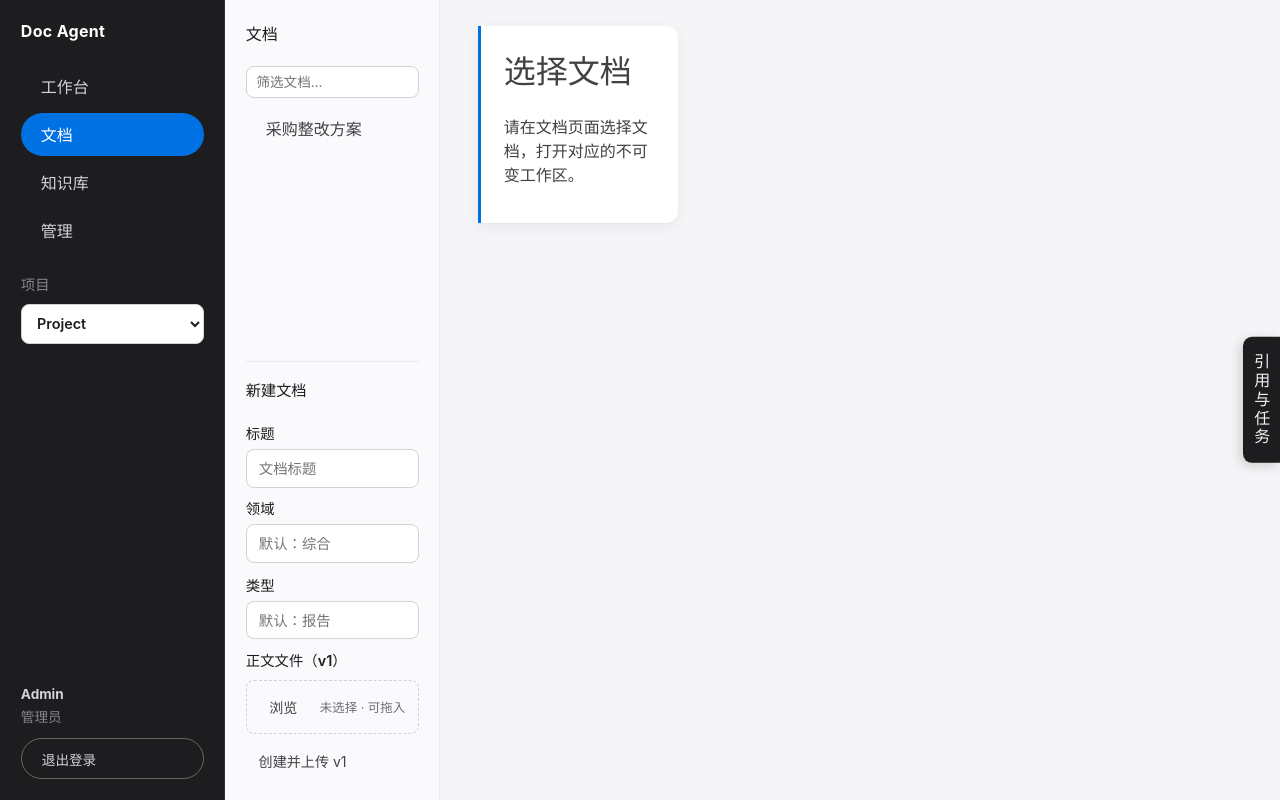
document and review workspace boundaries › does not grant a global administrator project review permissions
This screenshot has width=1280, height=800.
Click the button "采购整改方案" at (332,128), box [246,106,419,150]
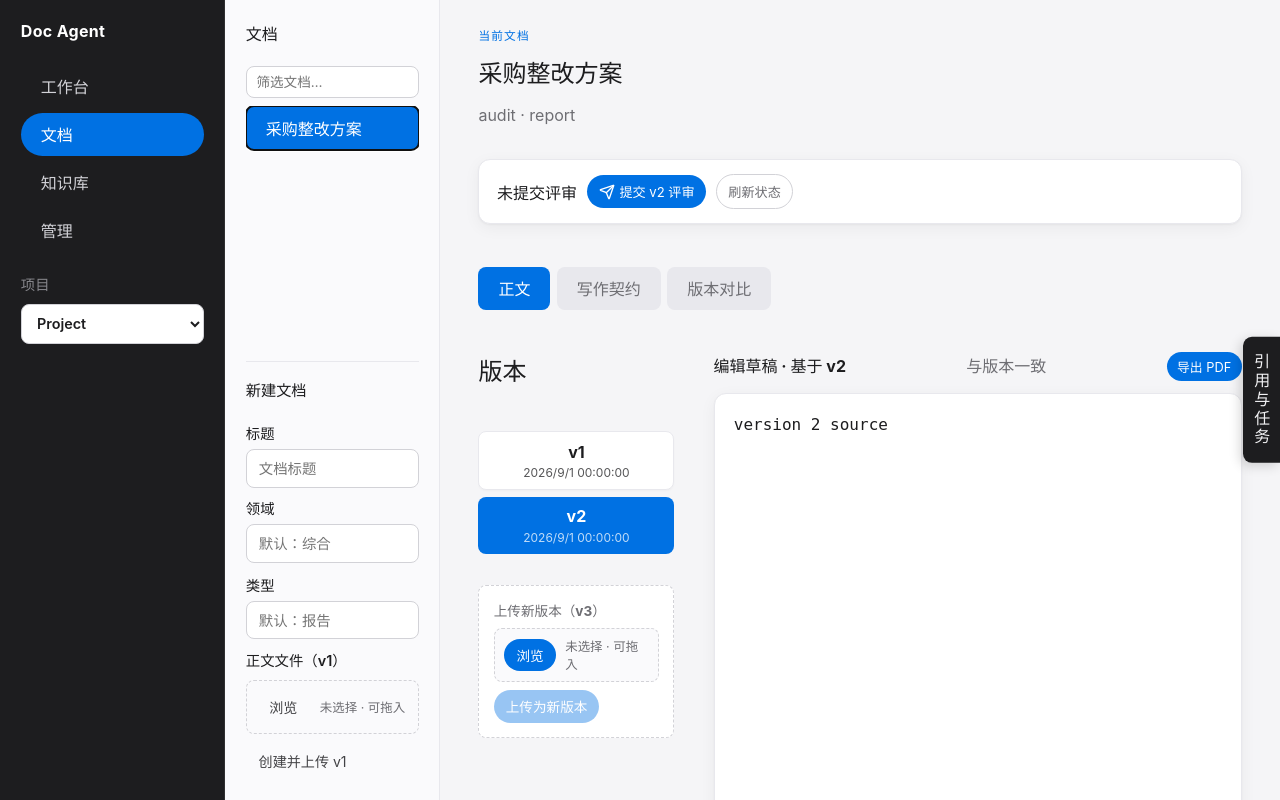
Click the button "管理" at (112,230), box [21,209,204,252]
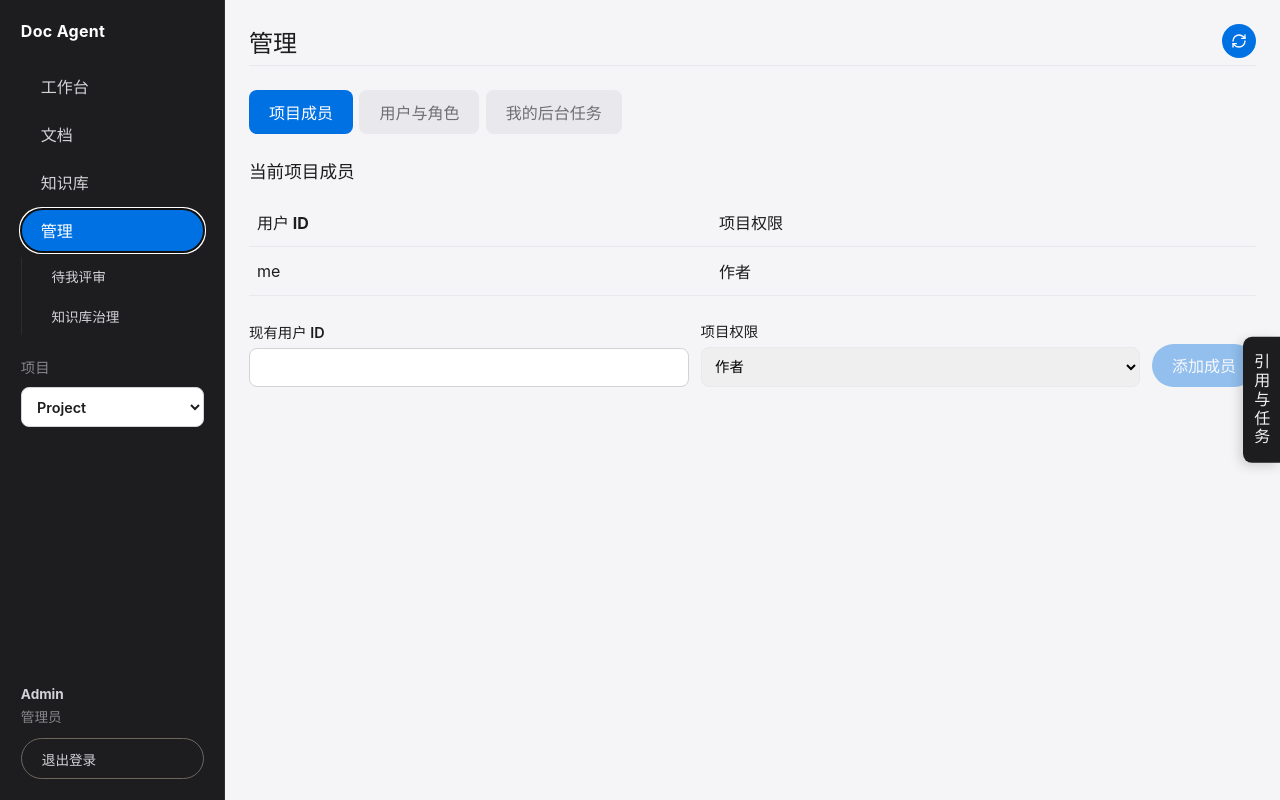
Click the button "待我评审" at (118,276), box [31,257,204,296]
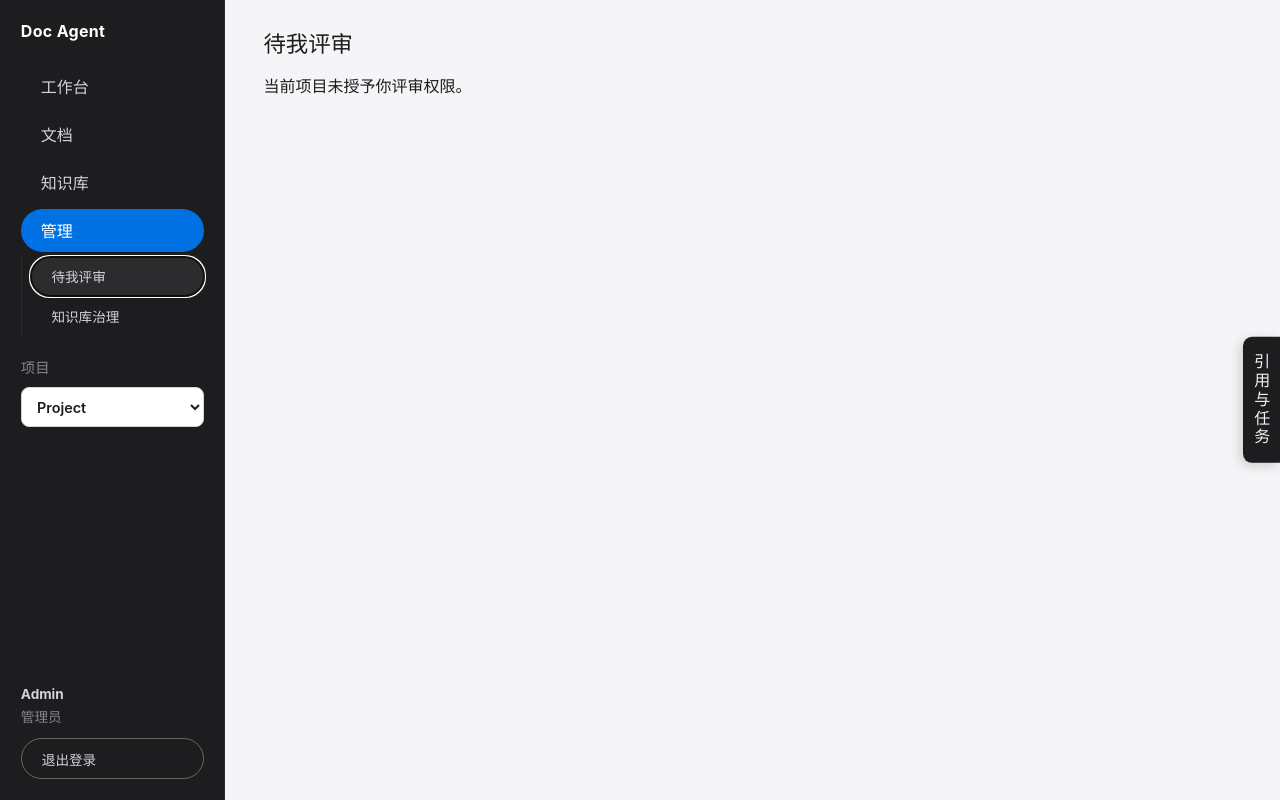
Check: the text "当前项目未授予你评审权限。" is shown, box [263,76,471,96]
